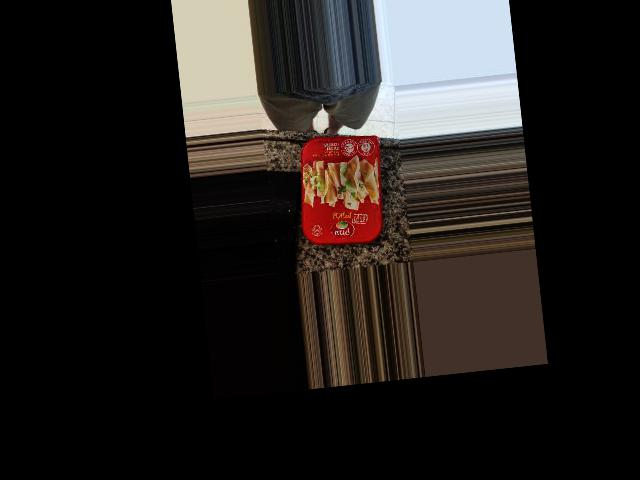cheese: (278, 109, 377, 228)
